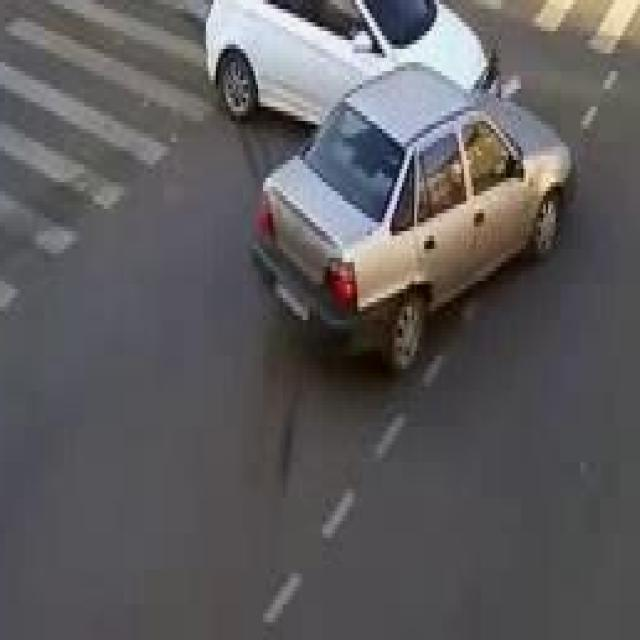accident: (204, 0, 576, 378)
